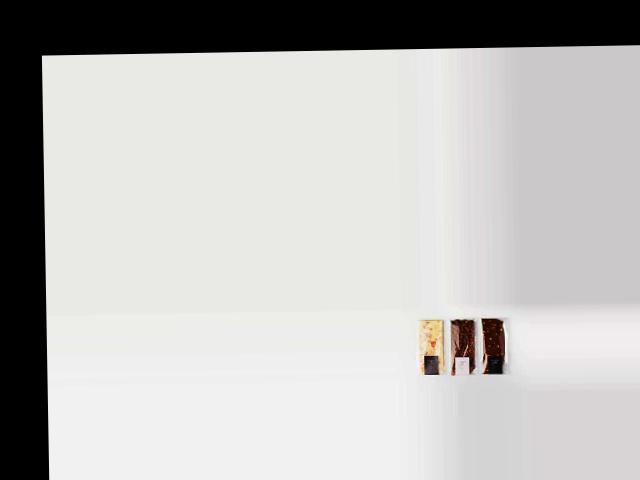chocolate: (479, 312, 514, 373)
